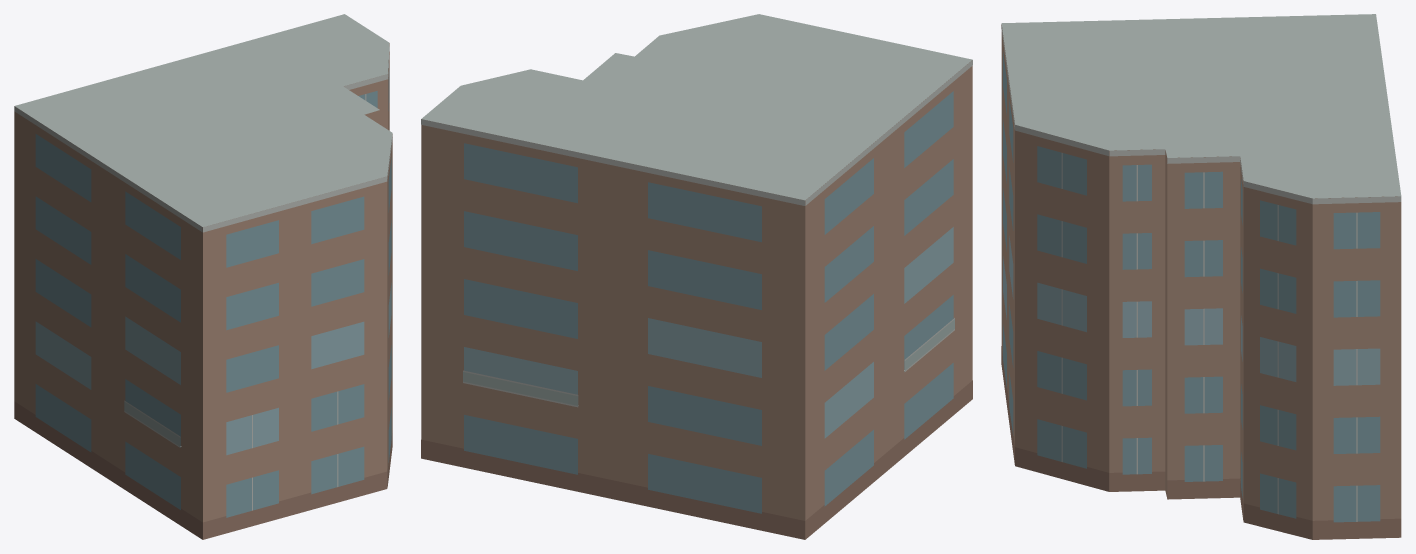
File: survey-upis-32732987.glb
3 views of the same model, side by side, from view 1: azimuth 30°, elevation 25°; view 2: azimuth 150°, elevation 25°; view 3: azimuth 270°, elevation 25° (orthographic). The views are drawn at different scales.
Parts seen in each view (by area): view 1: survey-upis-32732987.tmp; view 2: survey-upis-32732987.tmp; view 3: survey-upis-32732987.tmp.
Part boxes in pixels (x1=…): survey-upis-32732987.tmp: x1=14, y1=14, x2=392, y2=539; survey-upis-32732987.tmp: x1=421, y1=14, x2=972, y2=539; survey-upis-32732987.tmp: x1=1001, y1=14, x2=1401, y2=539.
Bounding box in the file's own units: 16.7 × 14.4 × 15.3.
